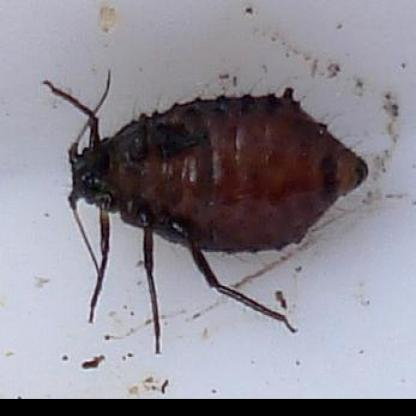aphid: (44, 64, 368, 346)
